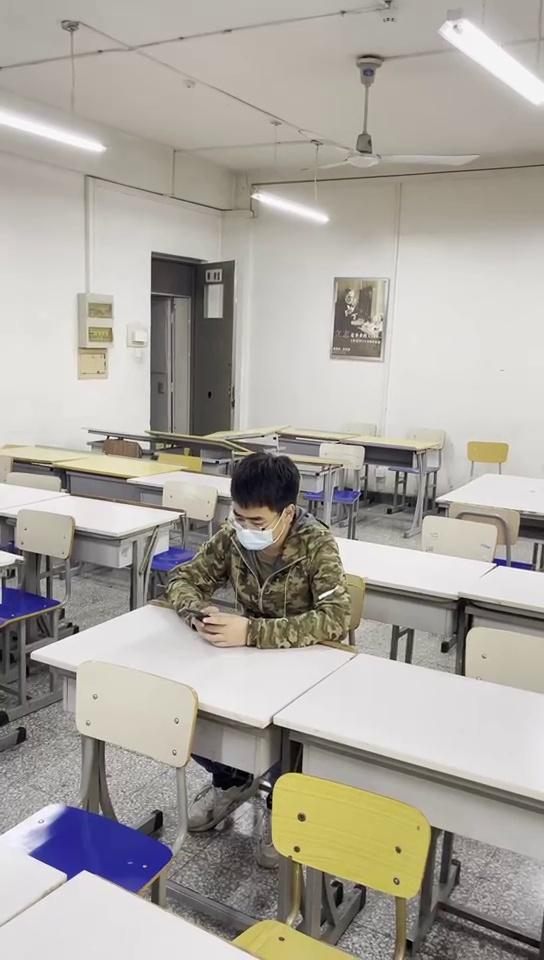phone: (169, 452, 350, 646)
